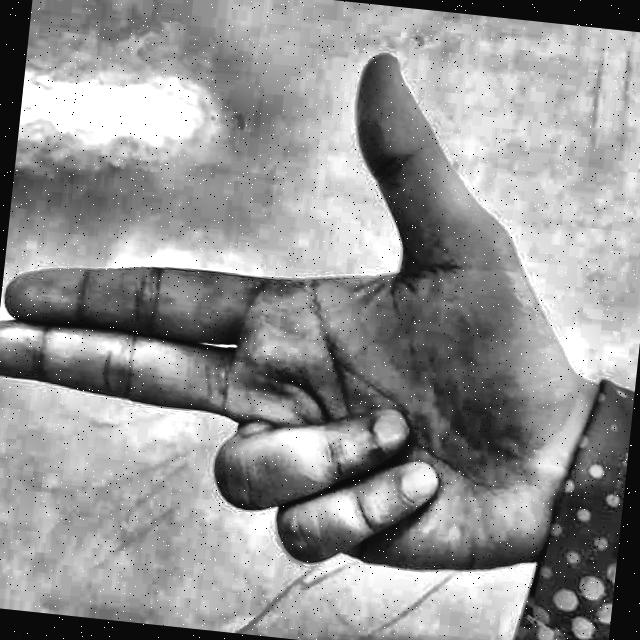Jha: (0, 0, 622, 637)
